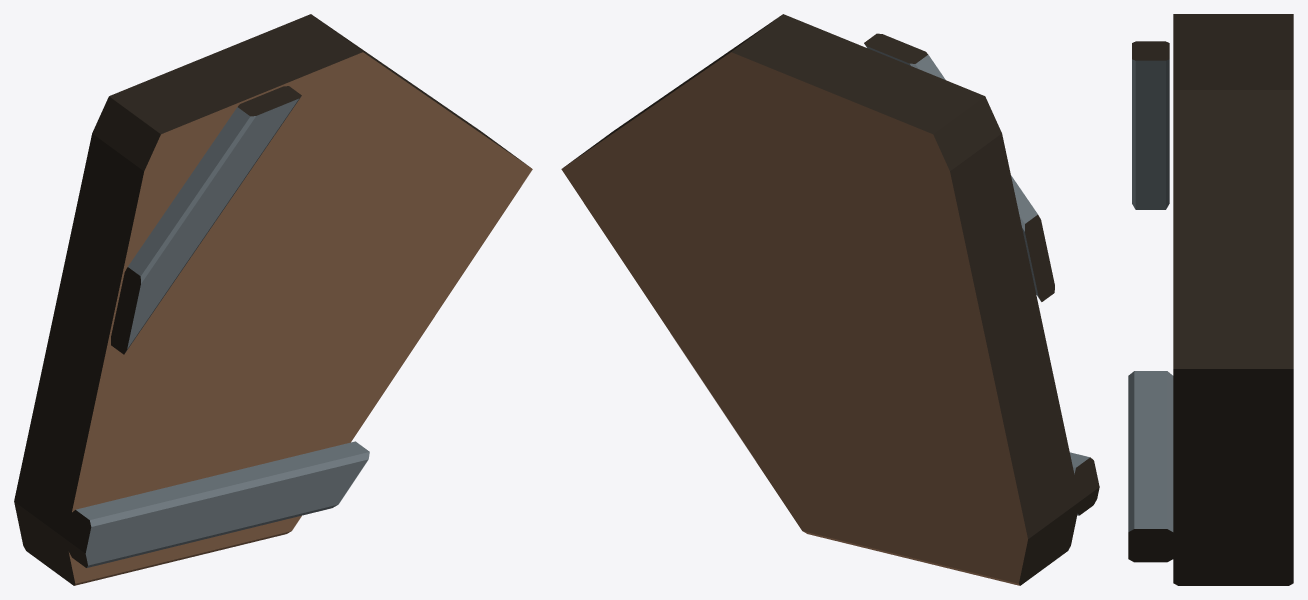
File: SM_DoorShard_03_43.fbx
3 views of the same model, side by side, from view 1: azimuth 30°, elevation 25°; view 2: azimuth 150°, elevation 25°; view 3: azimuth 270°, elevation 25° (orthographic). The views are drawn at different scales.
Visible parts, largest first — view 1: SM_DoorShard_03_43; view 2: SM_DoorShard_03_43; view 3: SM_DoorShard_03_43.
Boxes of the visible parts, x1=… form: SM_DoorShard_03_43: x1=14, y1=14, x2=532, y2=585; SM_DoorShard_03_43: x1=561, y1=14, x2=1099, y2=585; SM_DoorShard_03_43: x1=1128, y1=14, x2=1293, y2=585.
Bounding box in the file's own units: 82.81 × 22 × 78.9.
